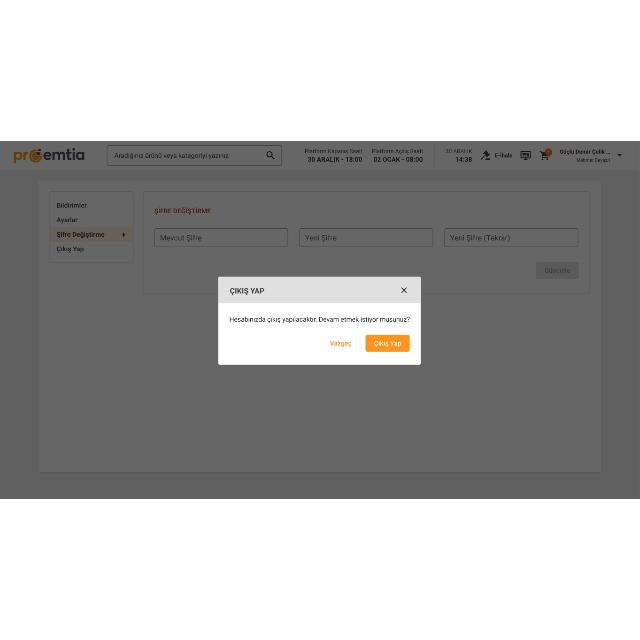QLabel: (229, 316, 411, 324), (371, 339, 403, 349), (329, 338, 353, 348), (230, 288, 264, 294)
VBtn: (364, 334, 410, 352)
VDialog: (219, 276, 421, 366)
VIcon: (400, 286, 408, 294)
